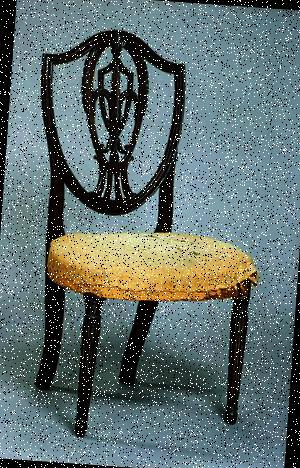Silla: (14, 26, 277, 450)
